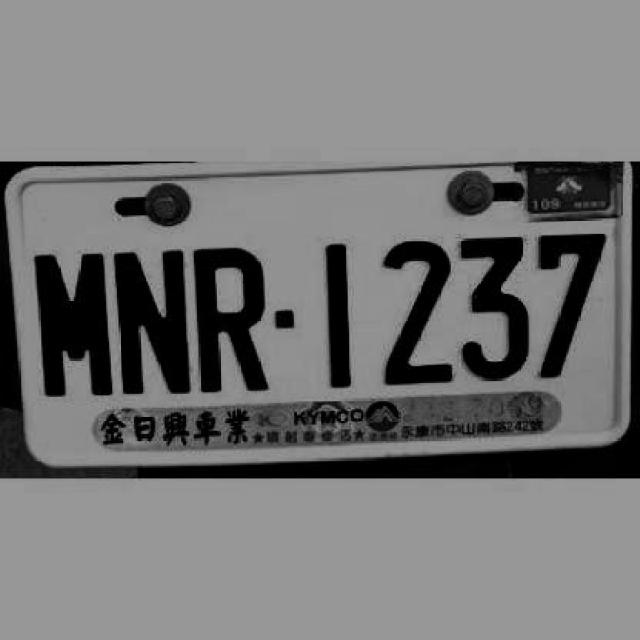-: (272, 305, 296, 332)
1: (323, 243, 352, 389)
2: (380, 242, 452, 388)
3: (458, 238, 531, 382)
7: (536, 235, 610, 377)
M: (31, 251, 111, 394)
N: (111, 246, 189, 392)
R: (191, 244, 266, 390)
